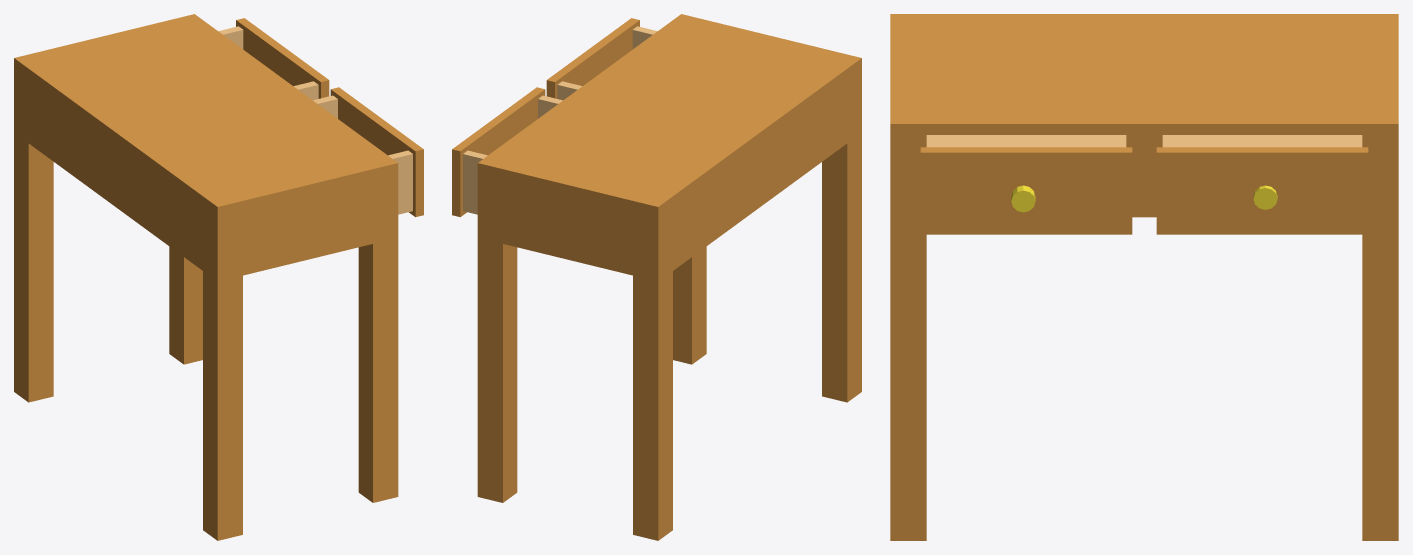
File: table-with-drawers-by-wesley-thompson-aMSuFFdIhKB.glb
3 renders of one model, left to right at view 1: azimuth 30°, elevation 25°; view 2: azimuth 150°, elevation 25°; view 3: azimuth 270°, elevation 25°, orthographic. The views are drawn at different scales.
Parts seen in each view (by area): view 1: group1814485268, group1719337477, group1473695789; view 2: group1814485268, group1473695789, group1719337477; view 3: group1814485268, group1719337477, group1473695789.
Part boxes in pixels (box(x1,y1,x2,y2)): group1814485268: box(14, 14, 398, 540); group1719337477: box(313, 87, 423, 217); group1473695789: box(218, 18, 329, 100); group1814485268: box(477, 14, 861, 540); group1473695789: box(452, 87, 562, 217); group1719337477: box(546, 18, 657, 100); group1814485268: box(890, 14, 1398, 540); group1719337477: box(920, 135, 1132, 234); group1473695789: box(1156, 135, 1368, 234).
Size of the model in its own units: 0.54 by 0.76 by 0.84.
